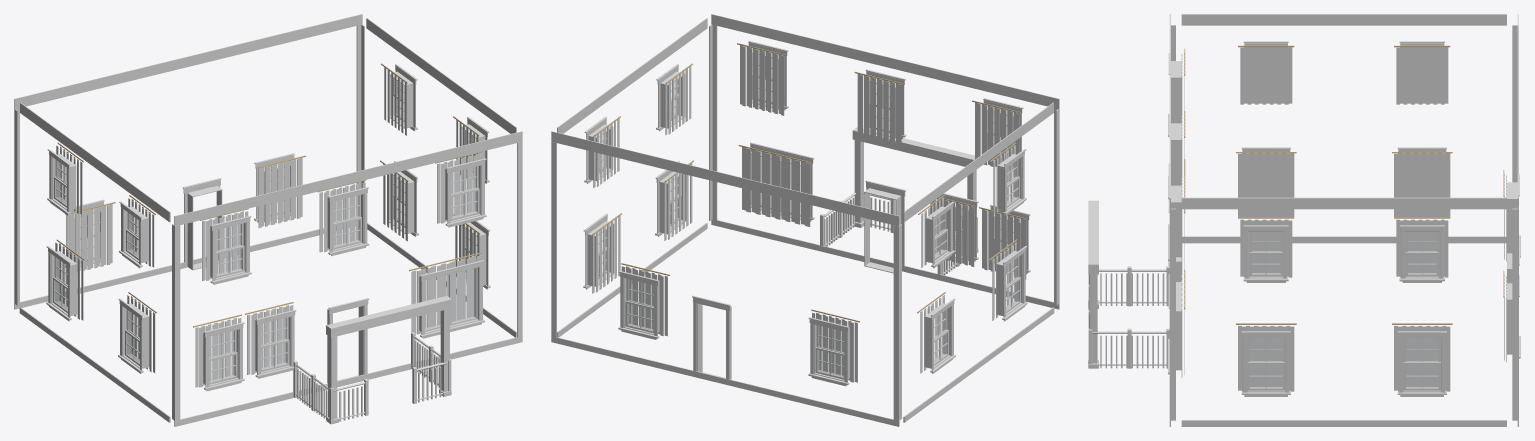
File: SM_Town_House_Orch3_Trim.fbx
3 views of the same model, side by side, from view 1: azimuth 30°, elevation 25°; view 2: azimuth 150°, elevation 25°; view 3: azimuth 270°, elevation 25° (orthographic). The views are drawn at different scales.
Parts seen in each view (by area): view 1: SM_Town_House_Orch3_Trim_1; view 2: SM_Town_House_Orch3_Trim_1; view 3: SM_Town_House_Orch3_Trim_1.
Boxes of the visible parts, x1,y1,x2,y2 form: SM_Town_House_Orch3_Trim_1: [14, 14, 522, 426]; SM_Town_House_Orch3_Trim_1: [551, 14, 1059, 426]; SM_Town_House_Orch3_Trim_1: [1088, 14, 1520, 426].
Bounding box in the file's own units: 1013 × 582 × 996.
